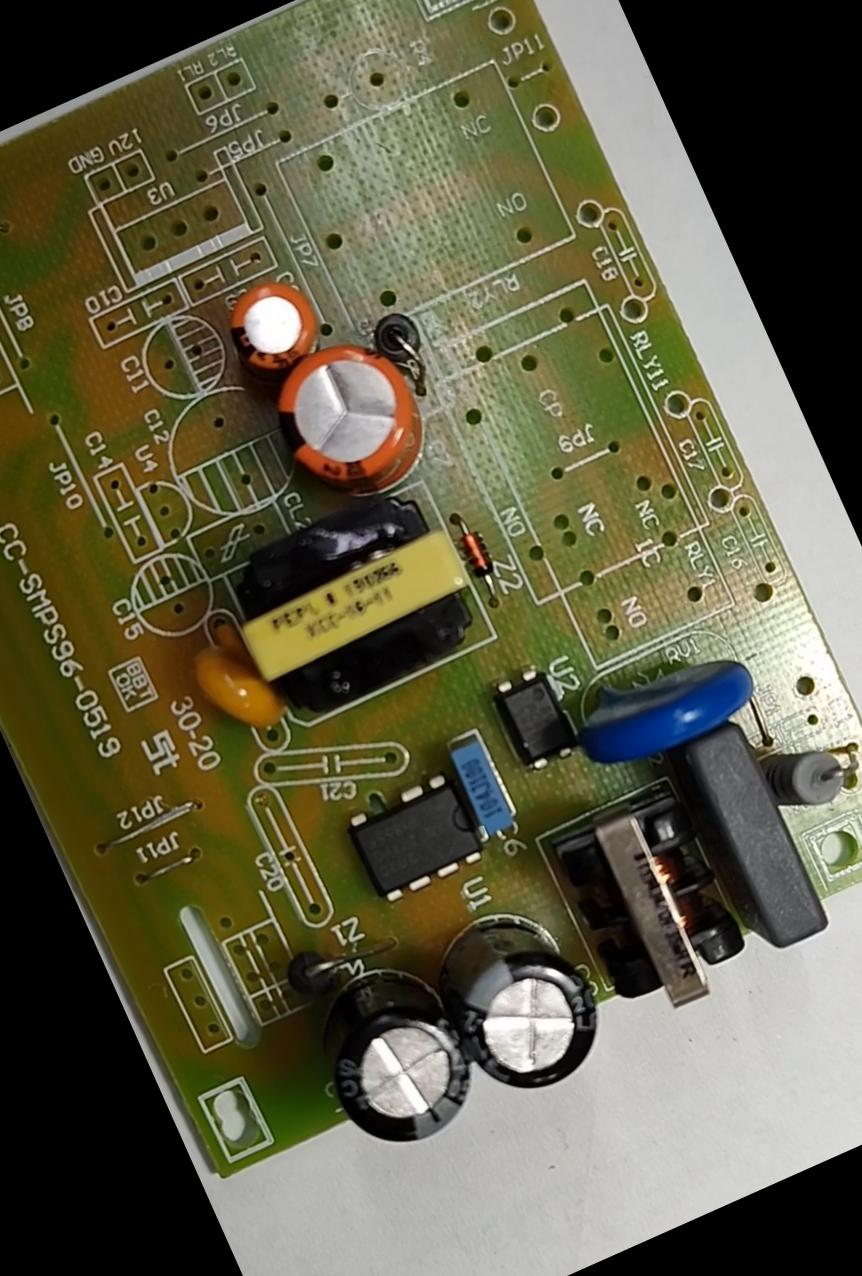Cap1: (232, 311, 454, 528)
Cap2: (194, 248, 343, 398)
Cap3: (408, 876, 644, 1129)
Cap4: (276, 920, 510, 1175)
MOSFET: (326, 755, 508, 915)
Mov: (548, 602, 780, 796)
Resistor: (736, 708, 861, 833)
Transformer: (191, 461, 510, 741), (532, 770, 772, 1045)
